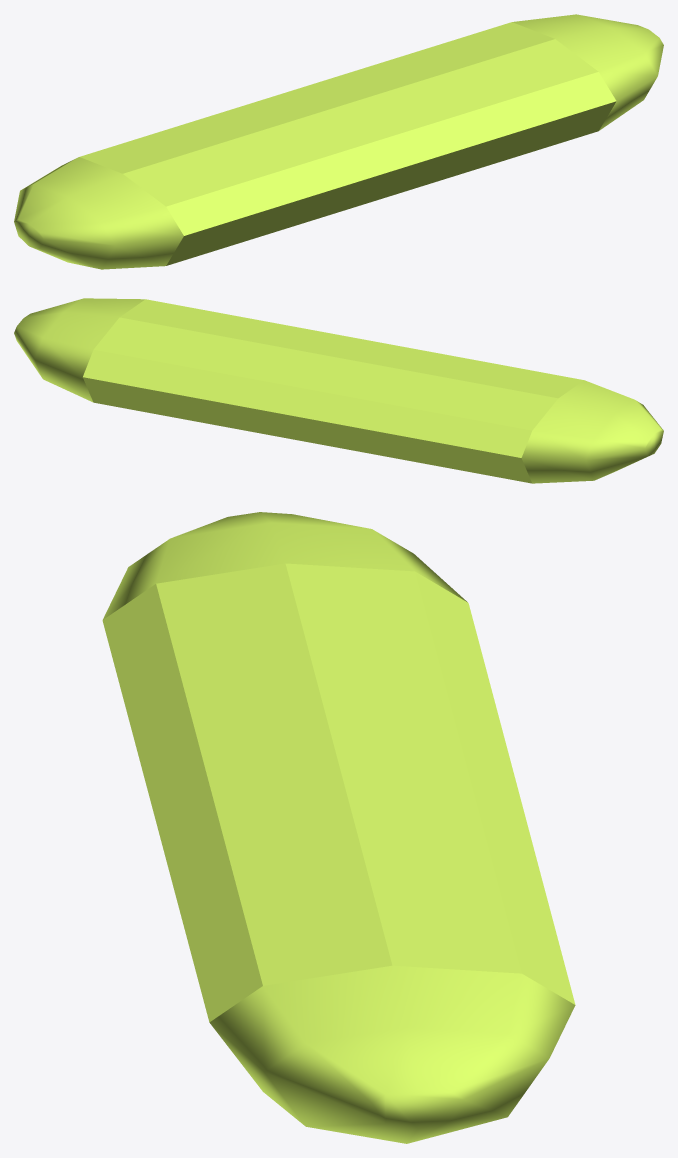
Rendered from LampWideBulb.obj.
The picture shows the model from 3 angles, top to bottom: view 1: azimuth 30°, elevation 25°; view 2: azimuth 150°, elevation 25°; view 3: azimuth 270°, elevation 25°; orthographic projection. The views are drawn at different scales.
Visible parts, largest first — view 1: pCylinder2; view 2: pCylinder2; view 3: pCylinder2.
Boxes of the visible parts, <box> form: pCylinder2: <box>14,14,663,269</box>; pCylinder2: <box>14,298,663,483</box>; pCylinder2: <box>102,512,575,1143</box>.
Bounding box in the file's own units: 21.42 × 2.55 × 7.37.
